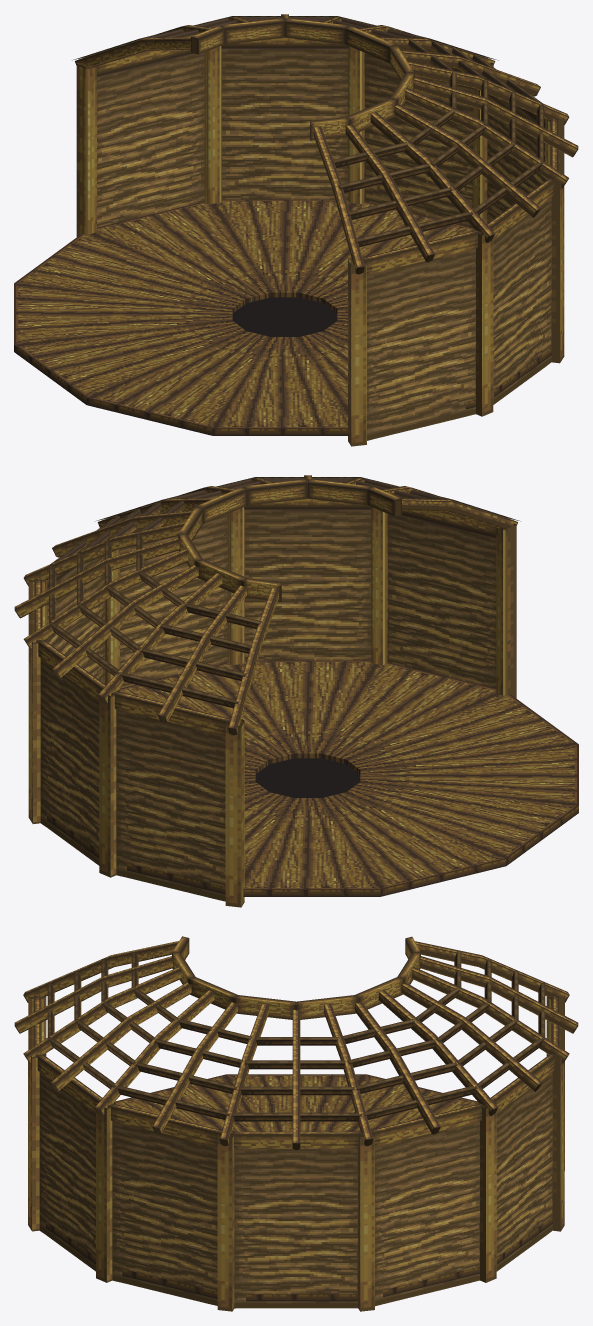
The model's file is EnvBdgMD_Island_A_Indoor_House_B.FBX.
3 views of the same model, one above another, from view 1: azimuth 30°, elevation 25°; view 2: azimuth 150°, elevation 25°; view 3: azimuth 270°, elevation 25° (orthographic). The views are drawn at different scales.
Parts seen in each view (by area): view 1: EnvBdgMD_Island_A_Indoor_House_B; view 2: EnvBdgMD_Island_A_Indoor_House_B; view 3: EnvBdgMD_Island_A_Indoor_House_B.
Part boxes in pixels (x1,y1,x2,y2): EnvBdgMD_Island_A_Indoor_House_B: (14, 14, 578, 446); EnvBdgMD_Island_A_Indoor_House_B: (14, 475, 578, 907); EnvBdgMD_Island_A_Indoor_House_B: (14, 936, 578, 1311).
Bounding box in the file's own units: 1409 × 704 × 1467.
1 material, 1 textured.
